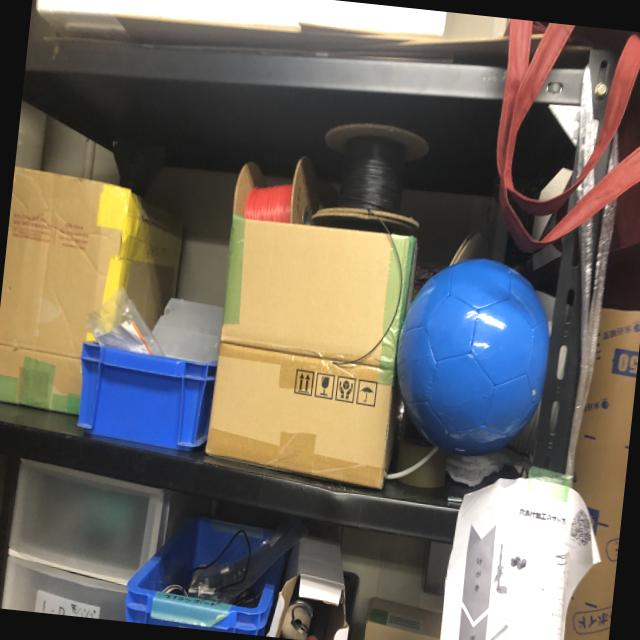blue_ball: (390, 250, 560, 454)
